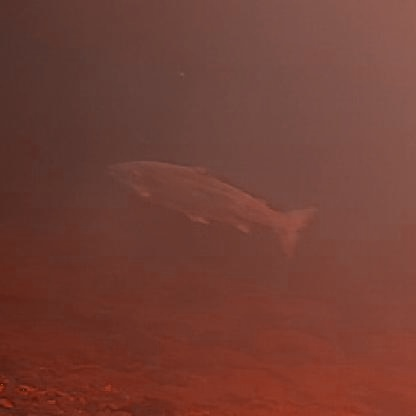salmon: (100, 154, 319, 260)
